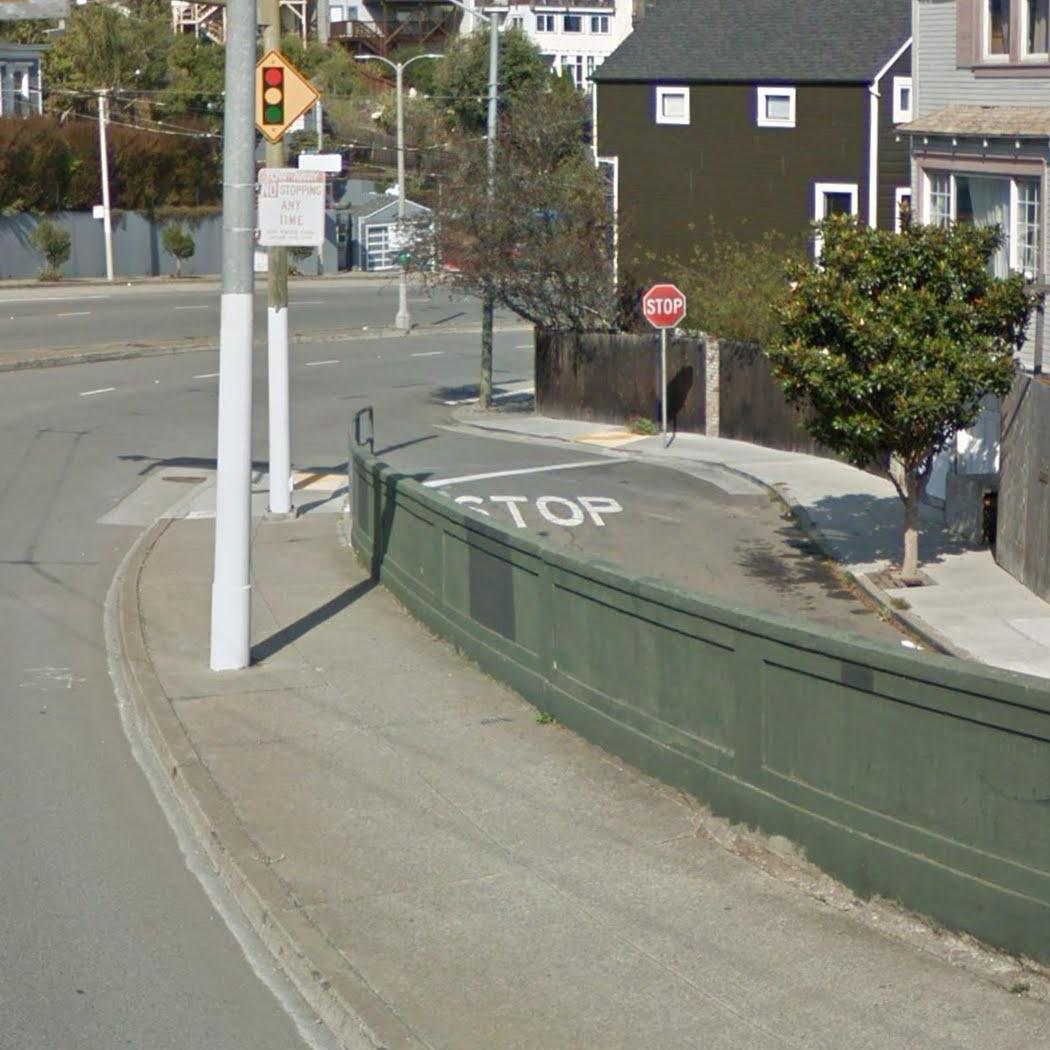No Parking: (256, 164, 329, 249)
